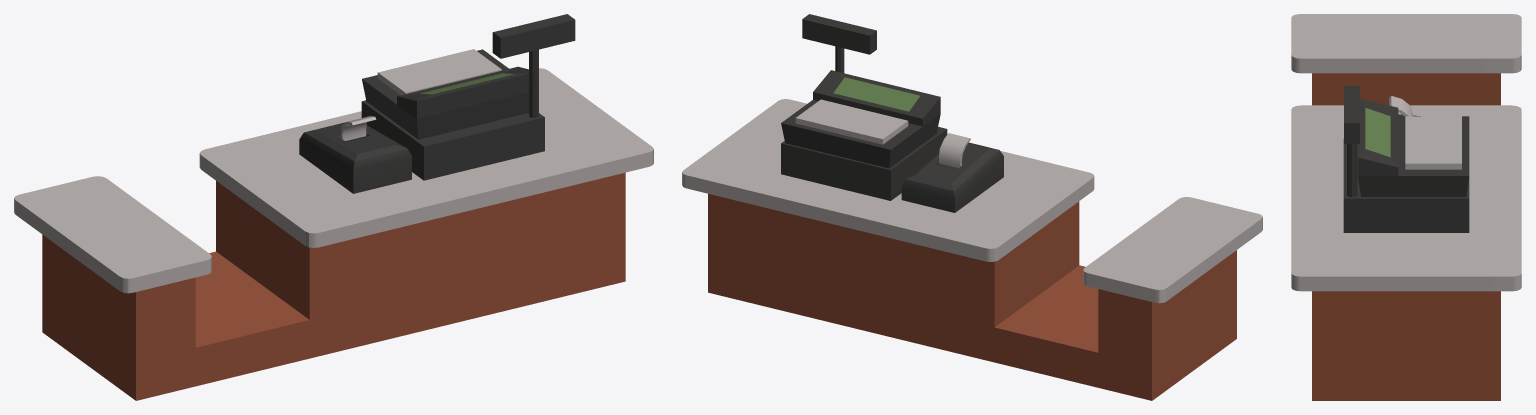
File: RegisterCounter.fbx
The picture shows the model from 3 angles, left to right: view 1: azimuth 30°, elevation 25°; view 2: azimuth 150°, elevation 25°; view 3: azimuth 270°, elevation 25°; orthographic projection. The views are drawn at different scales.
Visible parts, largest first — view 1: registerCounter, register, cashBox, reciptPrinter, priceViewer; view 2: registerCounter, register, reciptPrinter, cashBox, priceViewer; view 3: registerCounter, register, cashBox, priceViewer, reciptPrinter.
Boxes of the visible parts, <box> form: registerCounter: <box>14,68,653,400</box>; register: <box>362,49,528,139</box>; cashBox: <box>361,100,544,180</box>; reciptPrinter: <box>299,116,411,193</box>; priceViewer: <box>492,14,575,117</box>; registerCounter: <box>682,99,1262,400</box>; register: <box>781,70,940,168</box>; reciptPrinter: <box>901,133,1003,212</box>; cashBox: <box>781,127,947,200</box>; priceViewer: <box>802,14,876,72</box>; registerCounter: <box>1291,14,1521,400</box>; register: <box>1358,98,1469,196</box>; cashBox: <box>1343,139,1469,232</box>; priceViewer: <box>1344,86,1359,197</box>; reciptPrinter: <box>1389,95,1420,116</box>.
Bounding box in the file's own units: 273 × 127 × 101.
